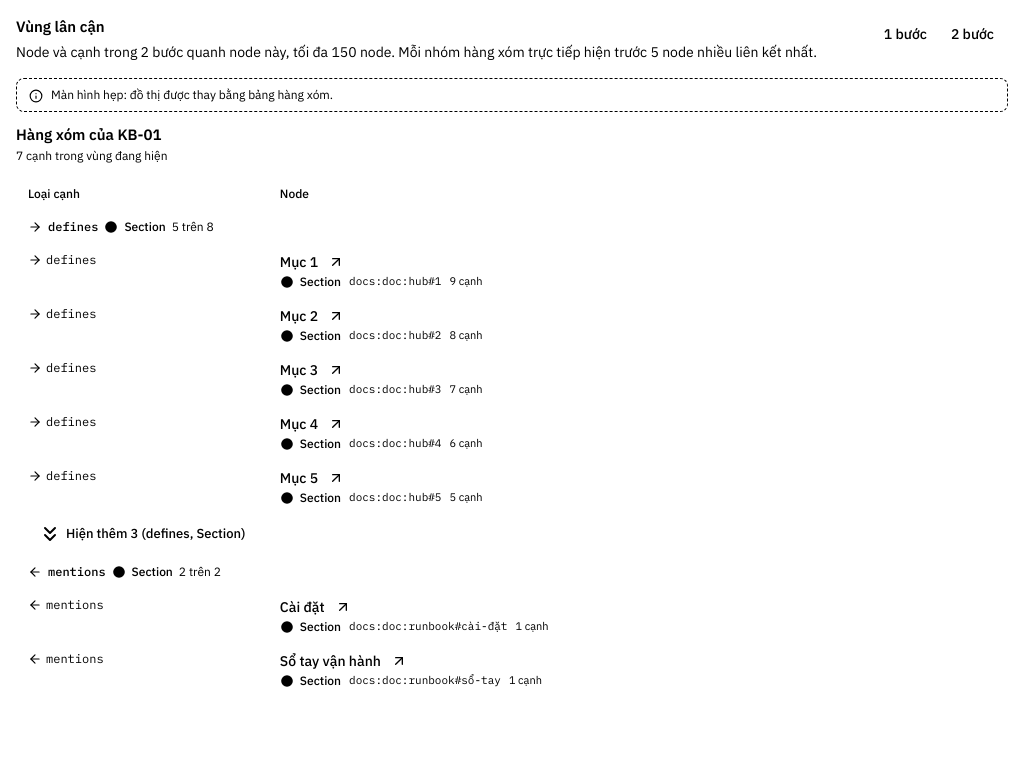
Test case: neighbourhood › shows the most connected of each group first, says how many it holds back, and opens the group on a click
This screenshot has width=1024, height=768.
Expected: the text "5 trên 8" is shown, left=172, top=218, right=214, bottom=234
Click the button "Hiện thêm 3 (defines, Section)" at (142, 534), box left=28, top=520, right=256, bottom=548
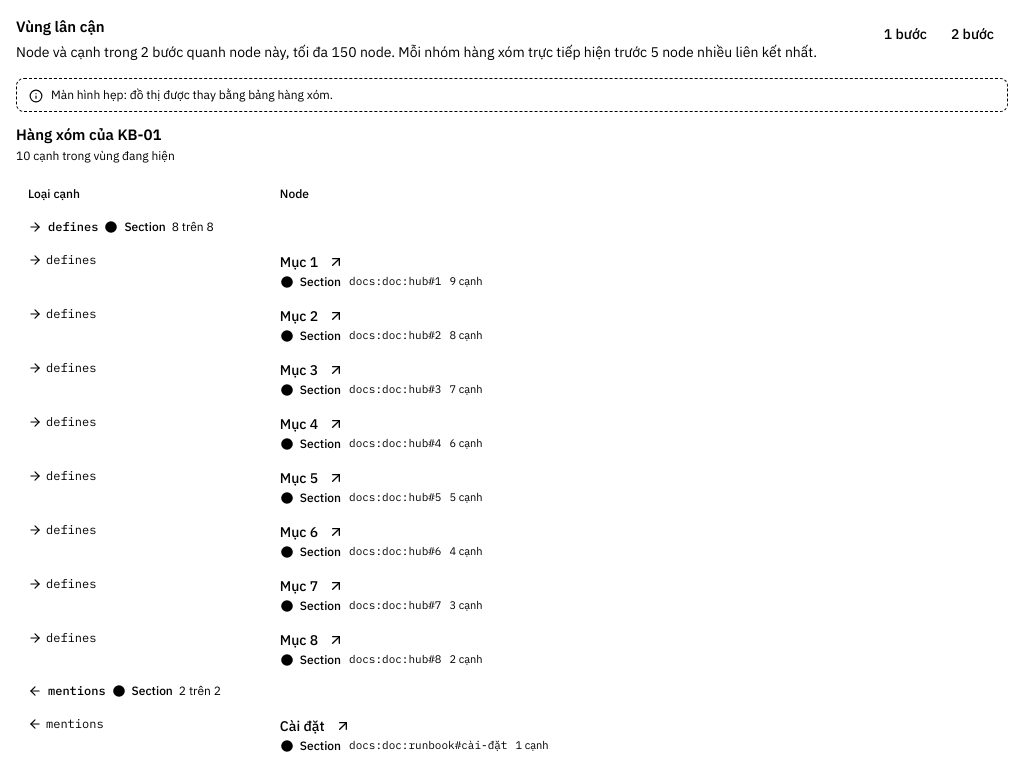
Expected: the text "8 trên 8" is shown, left=172, top=218, right=214, bottom=234
